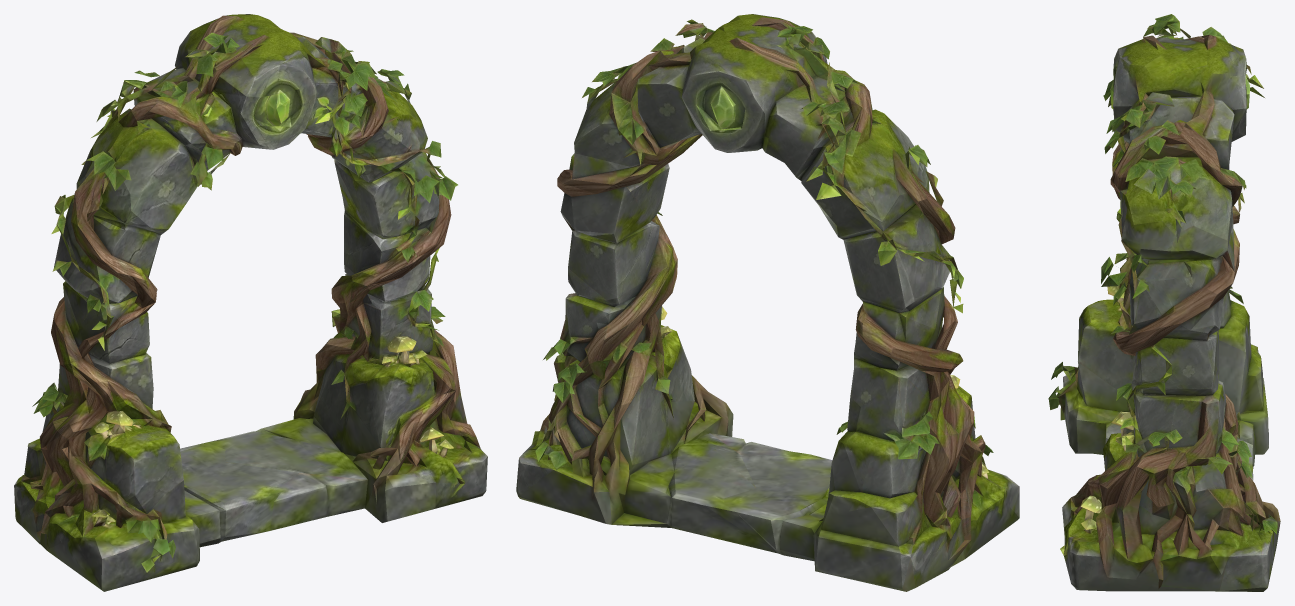
File: portale-foresta-sussurri.glb
3 renders of one model, left to right at view 1: azimuth 30°, elevation 25°; view 2: azimuth 150°, elevation 25°; view 3: azimuth 270°, elevation 25°, orthographic. The views are drawn at different scales.
Bounding box in the file's own units: 1.69 × 1.9 × 0.8502.
Materials: 1 (1 with a texture image).
